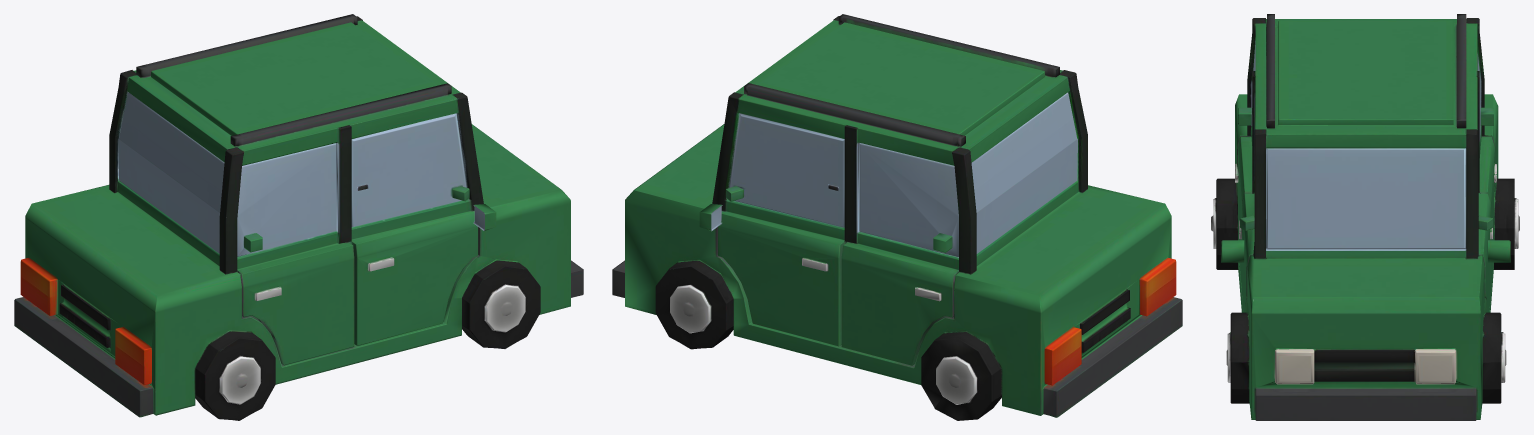
File: cute-car-suv-blender-cleanup.glb
The picture shows the model from 3 angles, left to right: view 1: azimuth 30°, elevation 25°; view 2: azimuth 150°, elevation 25°; view 3: azimuth 270°, elevation 25°; orthographic projection.
Visible parts, largest first — view 1: tripo_node_a2420114-f0df-4cc1-8287-48860f2a61e7; view 2: tripo_node_a2420114-f0df-4cc1-8287-48860f2a61e7; view 3: tripo_node_a2420114-f0df-4cc1-8287-48860f2a61e7.
Part boxes in pixels (<box>): tripo_node_a2420114-f0df-4cc1-8287-48860f2a61e7: <box>14,14,583,420</box>; tripo_node_a2420114-f0df-4cc1-8287-48860f2a61e7: <box>612,14,1182,420</box>; tripo_node_a2420114-f0df-4cc1-8287-48860f2a61e7: <box>1211,14,1519,420</box>.
Size of the model in its own units: 1 by 0.546 by 0.5851.
Materials: 1 (1 with a texture image).
